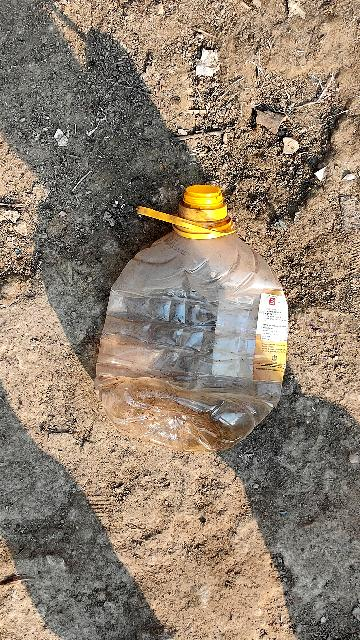bottle: (96, 168, 288, 460)
